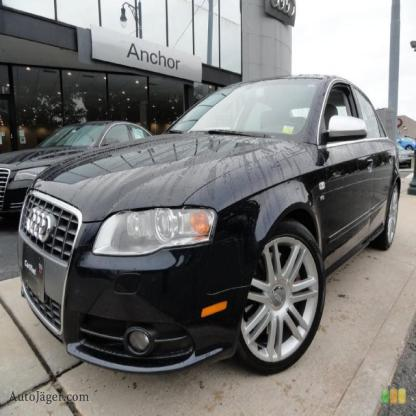car: (15, 75, 401, 376)
